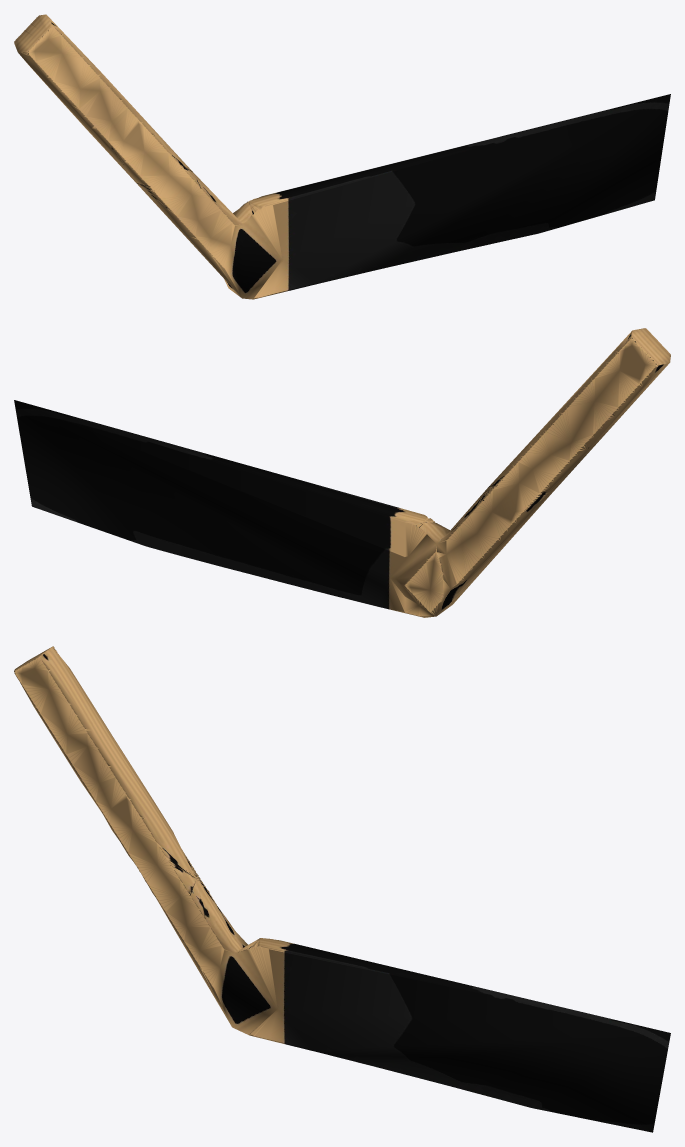
Rendered from HOCKEY.glb.
The picture shows the model from 3 angles, top to bottom: view 1: azimuth 30°, elevation 25°; view 2: azimuth 150°, elevation 25°; view 3: azimuth 330°, elevation 25°; orthographic projection.
Visible parts, largest first — view 1: head; view 2: head; view 3: head.
Part boxes in pixels (x1,y1,x2,y2): head: (14,14,670,299); head: (14,328,670,617); head: (14,646,670,1132).
Bounding box in the file's own units: 0.5086 × 0.2466 × 0.0225.
1 material, 1 textured.
